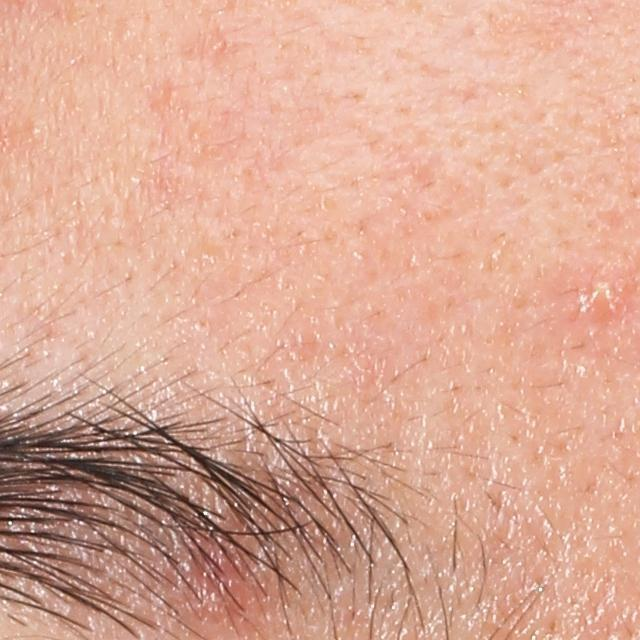comedo: (20, 118, 44, 142)
pustule: (582, 266, 624, 314)
